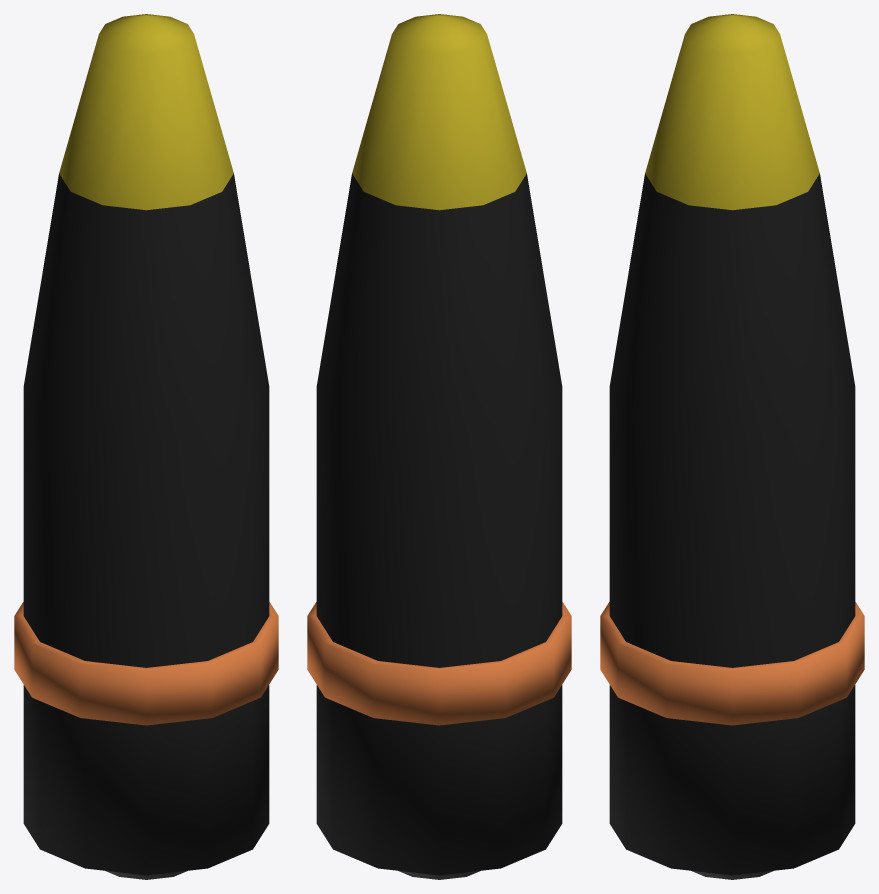
The model's file is apc.glb.
3 views of the same model, side by side, from view 1: azimuth 30°, elevation 25°; view 2: azimuth 150°, elevation 25°; view 3: azimuth 270°, elevation 25° (orthographic).
Parts seen in each view (by area): view 1: shell; view 2: shell; view 3: shell.
Boxes of the visible parts, bbox=[...] form: shell: bbox=[14, 14, 278, 879]; shell: bbox=[307, 14, 571, 879]; shell: bbox=[600, 14, 864, 879].
Size of the model in its own units: 0.0536 by 0.1882 by 0.0536.
